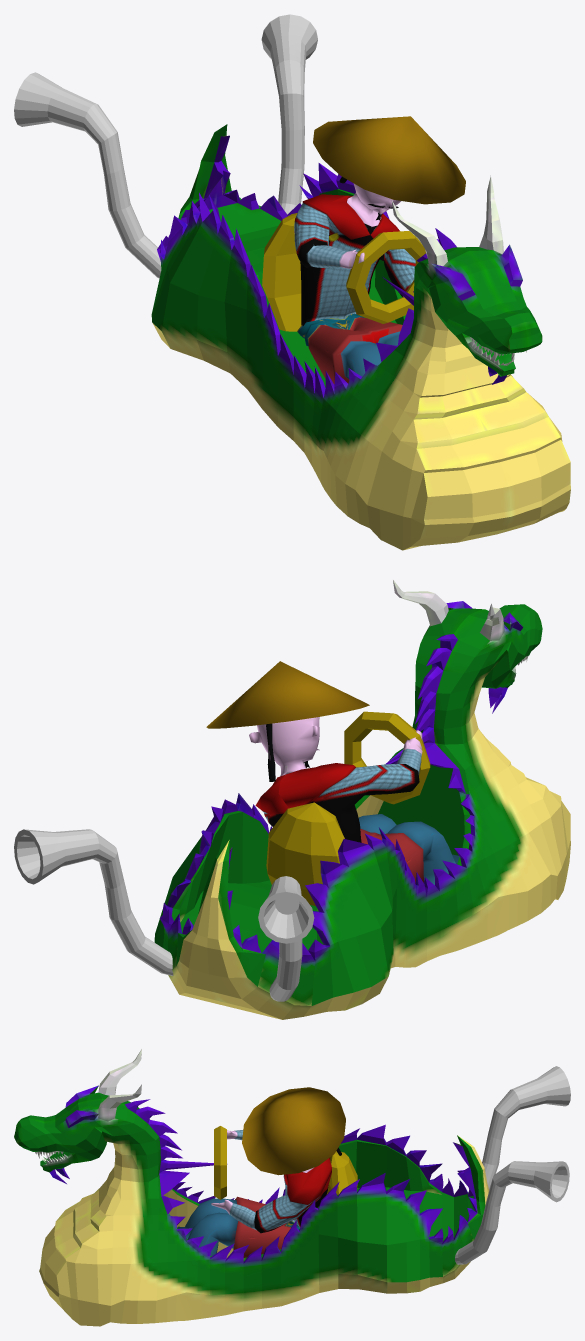
The model's file is ChinoGiroIzq_000191.obj.
The picture shows the model from 3 angles, top to bottom: view 1: azimuth 30°, elevation 25°; view 2: azimuth 150°, elevation 25°; view 3: azimuth 270°, elevation 25°; orthographic projection. The views are drawn at different scales.
Parts seen in each view (by area): view 1: ChasisChino_ChasisChinoH, Chino_ChinoH, Tubos_TubosH, AsientoChinoMalla_AsientoChinoMH, volanteChino_VolanteChinoH; view 2: ChasisChino_ChasisChinoH, Chino_ChinoH, Tubos_TubosH, AsientoChinoMalla_AsientoChinoMH, volanteChino_VolanteChinoH; view 3: ChasisChino_ChasisChinoH, Chino_ChinoH, Tubos_TubosH, volanteChino_VolanteChinoH, AsientoChinoMalla_AsientoChinoMH.
Part boxes in pixels (bbox=[...]): ChasisChino_ChasisChinoH: bbox=[151, 124, 570, 550]; Chino_ChinoH: bbox=[294, 116, 465, 383]; Tubos_TubosH: bbox=[14, 14, 317, 278]; AsientoChinoMalla_AsientoChinoMH: bbox=[262, 213, 301, 331]; volanteChino_VolanteChinoH: bbox=[346, 231, 425, 323]; ChasisChino_ChasisChinoH: bbox=[154, 580, 570, 1019]; Chino_ChinoH: bbox=[206, 661, 459, 884]; Tubos_TubosH: bbox=[14, 829, 314, 1001]; AsientoChinoMalla_AsientoChinoMH: bbox=[266, 802, 344, 906]; volanteChino_VolanteChinoH: bbox=[344, 711, 430, 804]; ChasisChino_ChasisChinoH: bbox=[14, 1049, 489, 1326]; Chino_ChinoH: bbox=[177, 1087, 345, 1257]; Tubos_TubosH: bbox=[455, 1066, 570, 1264]; volanteChino_VolanteChinoH: bbox=[214, 1126, 226, 1199]; AsientoChinoMalla_AsientoChinoMH: bbox=[326, 1151, 357, 1194].
Bounding box in the file's own units: 6.15 × 6.07 × 13.3.
